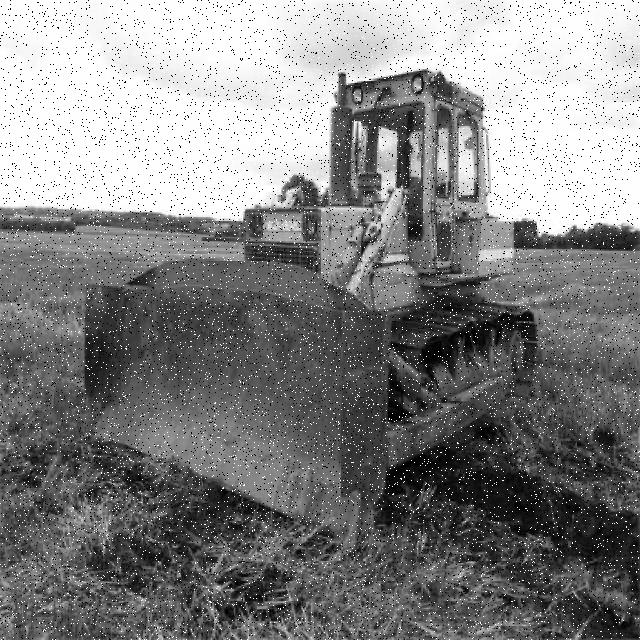Construction Equipment: (83, 71, 539, 548)
